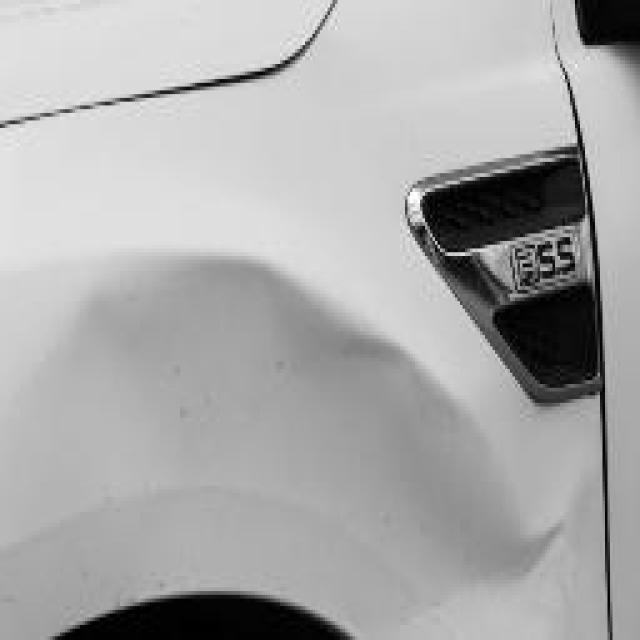Fender: (65, 215, 555, 614)
